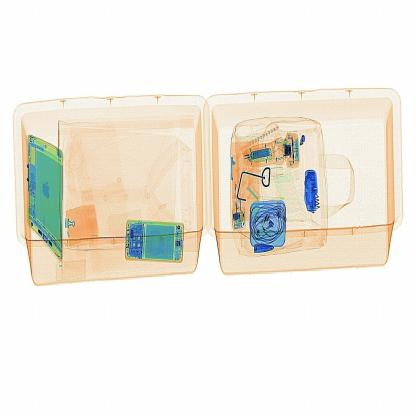scissors: (300, 163, 325, 222)
